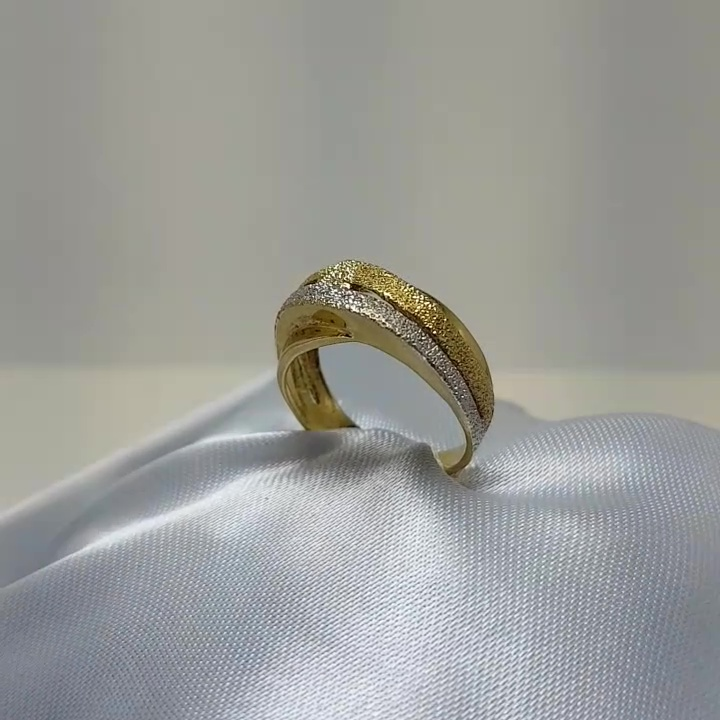Ring 5: (267, 231, 517, 510)
